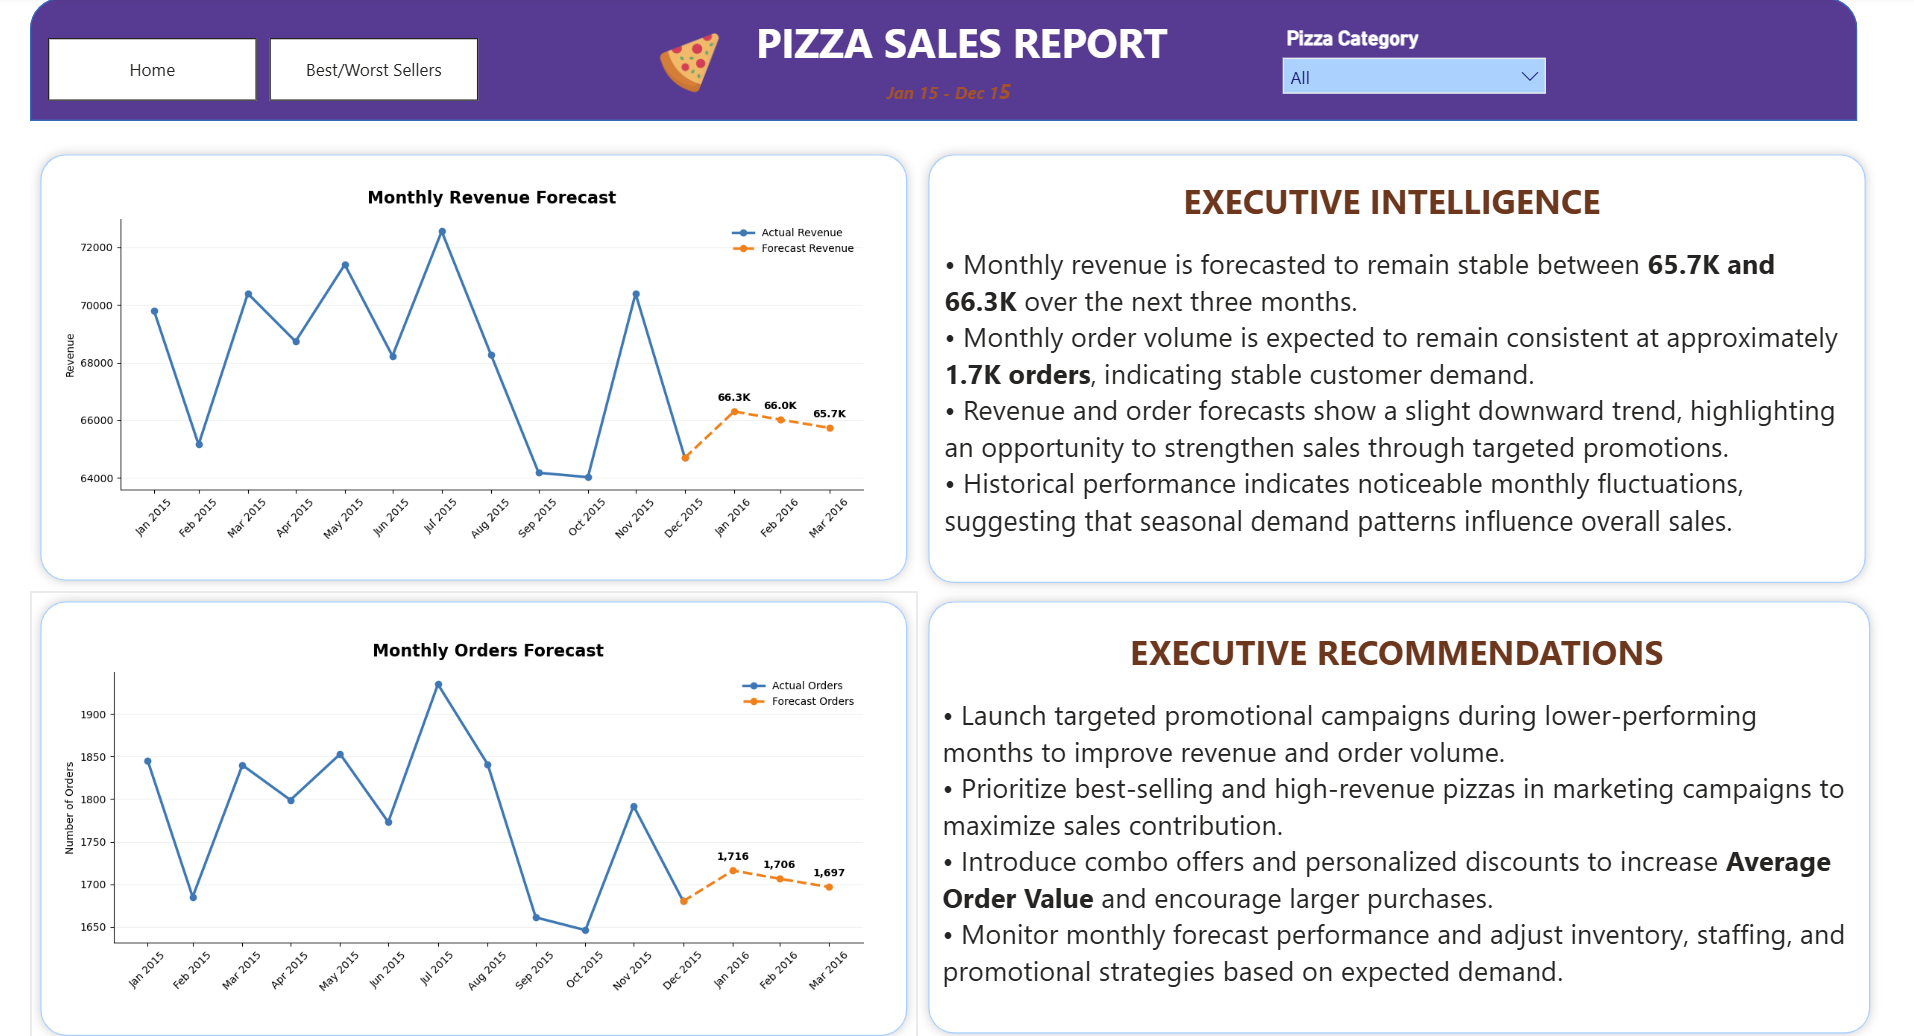

The page's visual inventory and layout, read from the dashboard file:
{"tool":"powerbi","page":{"name":"Forecast & Executive Intelligence","canvas":[1500,820],"ordinal":2},"visuals":[{"type":"shape","box":[23.1,3.6,1427.1,96],"z":1000},{"type":"textbox","box":[687.8,58.6,126.2,37.3],"z":2000},{"type":"textbox","box":[586.5,10.7,455,48],"z":3000},{"type":"image","box":[490.5,30.2,96,48],"z":4000},{"type":"shape","box":[988.2,10.7,188.4,51.5],"z":5000},{"type":"shape","box":[23.1,117.3,693.1,348.3],"z":6000},{"type":"shape","box":[23.1,465.6,693.1,355.5],"z":7000},{"type":"shape","box":[716.2,117.3,748.2,350.1],"z":8000},{"type":"shape","box":[716.2,465.6,751.8,353.7],"z":9000},{"type":"slicer","fields":{"Values":["pizza_sales.pizza_category"]},"box":[991.7,19.5,225.7,69.3],"z":10000},{"type":"pythonVisual","fields":{"Values":["pizza_sales.Total Revenue","pizza_sales.order_date"]},"box":[38.1,136.4,650.3,307.7],"z":11001},{"type":"pythonVisual","fields":{"Values":["pizza_sales.order_date","pizza_sales.Total Orders"]},"box":[38.1,488.5,650.3,307.7],"z":11003},{"type":"textbox","box":[732.2,136.8,716.2,307.5],"z":11004},{"type":"textbox","box":[730.5,488.7,719.8,307.5],"z":11005},{"type":"pageNavigator","box":[37.3,33.8,337.7,49.8],"z":11006}]}

Visuals, with their boxes on the page's 1500x820 design canvas (x1, y1, x2, y2). These are canvas units, not pixel positions in the 1914x1036 screenshot, which may show the page scaled, cropped or inside an application window:
shape: (x1=23, y1=4, x2=1450, y2=100)
textbox: (x1=688, y1=59, x2=814, y2=96)
textbox: (x1=586, y1=11, x2=1042, y2=59)
image: (x1=490, y1=30, x2=586, y2=78)
shape: (x1=988, y1=11, x2=1177, y2=62)
shape: (x1=23, y1=117, x2=716, y2=466)
shape: (x1=23, y1=466, x2=716, y2=821)
shape: (x1=716, y1=117, x2=1464, y2=467)
shape: (x1=716, y1=466, x2=1468, y2=819)
slicer - pizza_sales.pizza_category: (x1=992, y1=20, x2=1217, y2=89)
pythonVisual - pizza_sales.Total Revenue x pizza_sales.order_date: (x1=38, y1=136, x2=688, y2=444)
pythonVisual - pizza_sales.order_date x pizza_sales.Total Orders: (x1=38, y1=488, x2=688, y2=796)
textbox: (x1=732, y1=137, x2=1448, y2=444)
textbox: (x1=730, y1=489, x2=1450, y2=796)
pageNavigator: (x1=37, y1=34, x2=375, y2=84)
